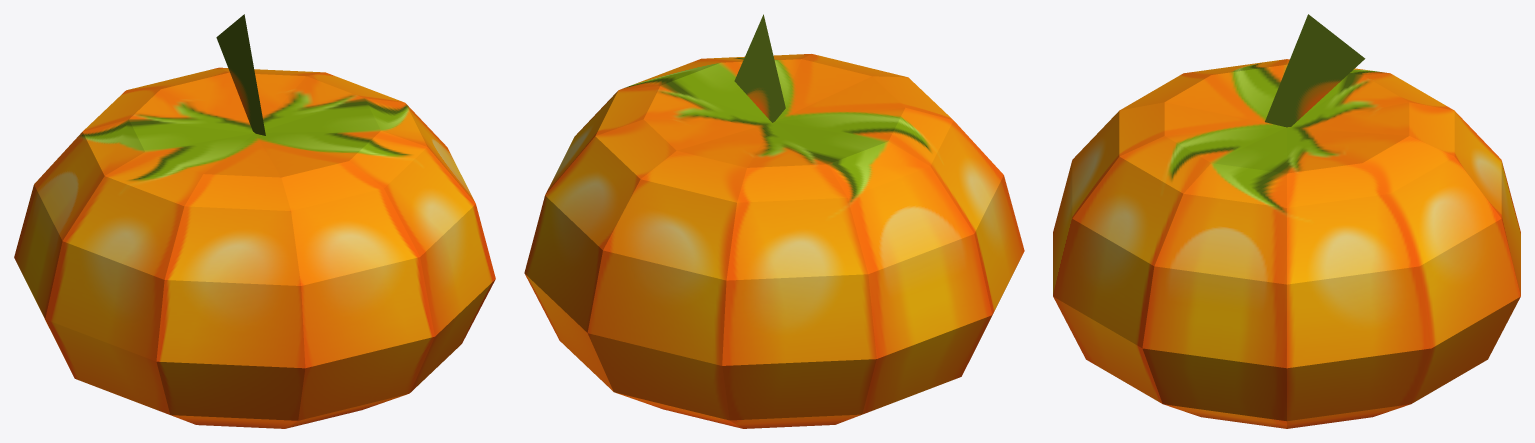
Rendered from pumpkin.fbx.
3 renders of one model, left to right at view 1: azimuth 30°, elevation 25°; view 2: azimuth 150°, elevation 25°; view 3: azimuth 270°, elevation 25°, orthographic. The views are drawn at different scales.
Visible parts, largest first — view 1: pumpkin; view 2: pumpkin; view 3: pumpkin.
Part boxes in pixels (x1,y1,x2,y2): pumpkin: (14, 14, 495, 428); pumpkin: (524, 14, 1024, 428); pumpkin: (1053, 14, 1520, 428).
Size of the model in its own units: 97.13 by 76.91 by 92.38.
